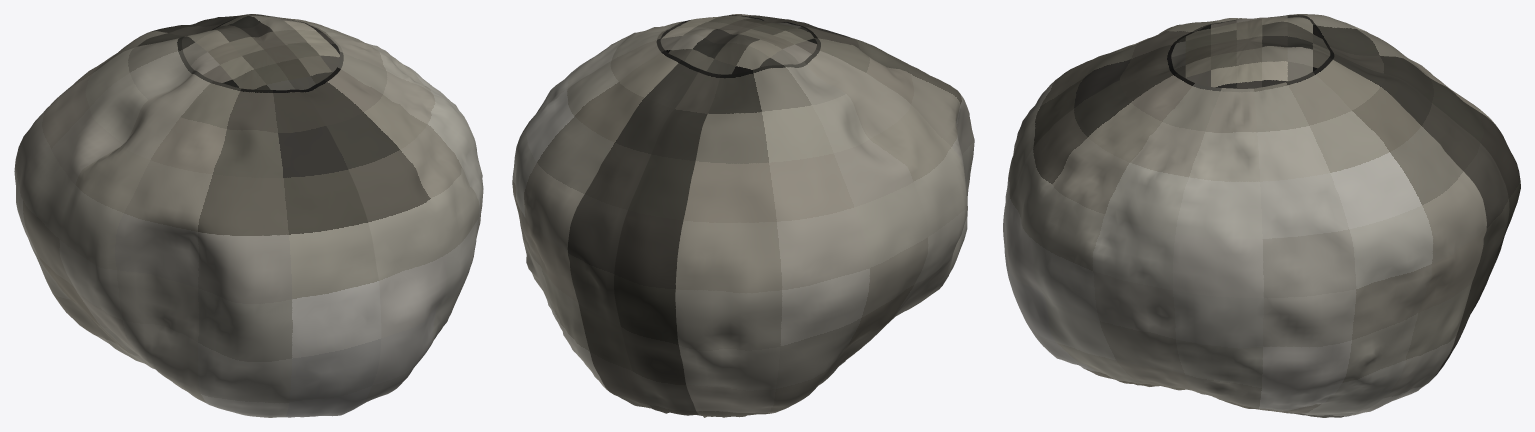
The model's file is phobos.glb.
3 renders of one model, left to right at view 1: azimuth 30°, elevation 25°; view 2: azimuth 150°, elevation 25°; view 3: azimuth 270°, elevation 25°, orthographic. The views are drawn at different scales.
Visible parts, largest first — view 1: phobos; view 2: phobos; view 3: phobos.
Part boxes in pixels (<box>): phobos: <box>14,14,483,417</box>; phobos: <box>512,14,974,417</box>; phobos: <box>1003,14,1520,417</box>.
Bounding box in the file's own units: 24.37 × 20.52 × 27.04.
1 material, 1 textured.
